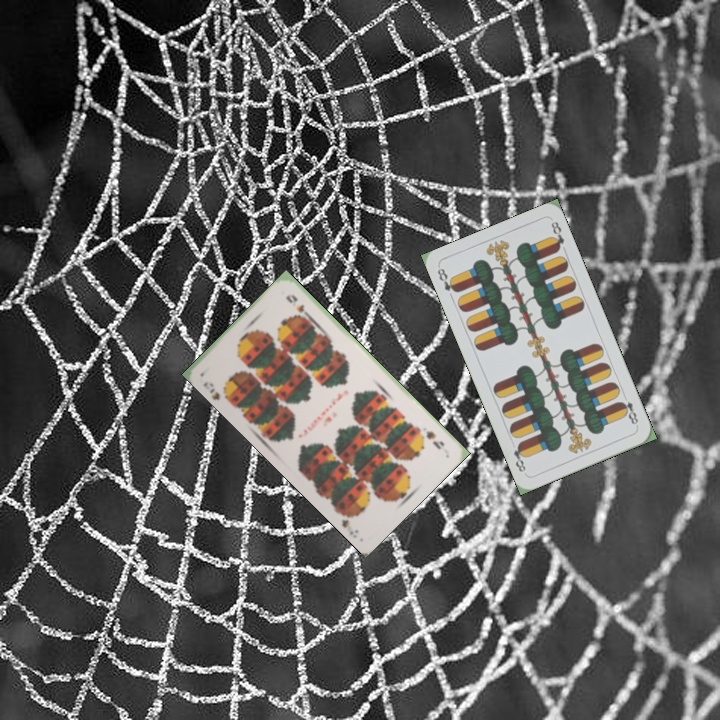E8: (616, 390, 641, 429), (433, 264, 460, 295)
S9: (199, 377, 232, 404), (422, 426, 447, 452)
